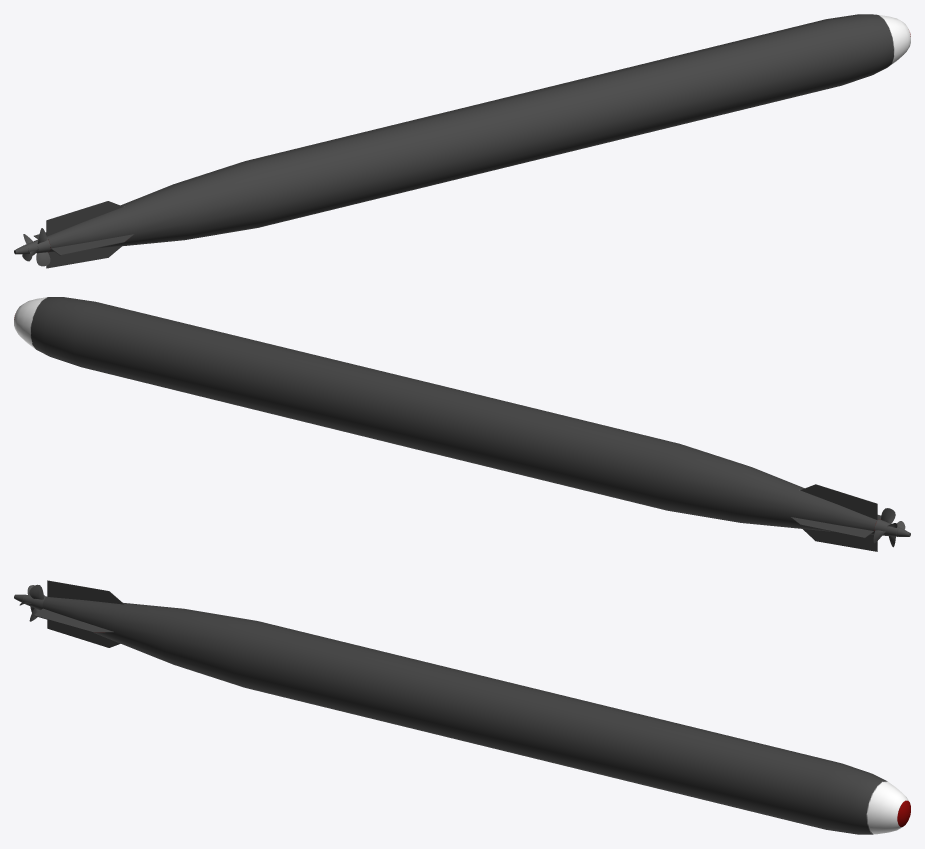
The model's file is Torpedo1.obj.
The picture shows the model from 3 angles, top to bottom: view 1: azimuth 30°, elevation 25°; view 2: azimuth 150°, elevation 25°; view 3: azimuth 330°, elevation 25°; orthographic projection.
Parts seen in each view (by area): view 1: body_body.001; view 2: body_body.001; view 3: body_body.001.
Part boxes in pixels (x1,y1,x2,y2): body_body.001: (34, 14, 910, 268); body_body.001: (14, 297, 881, 551); body_body.001: (34, 580, 910, 834).
Size of the model in its own units: 8.48 by 0.5615 by 0.5615.
